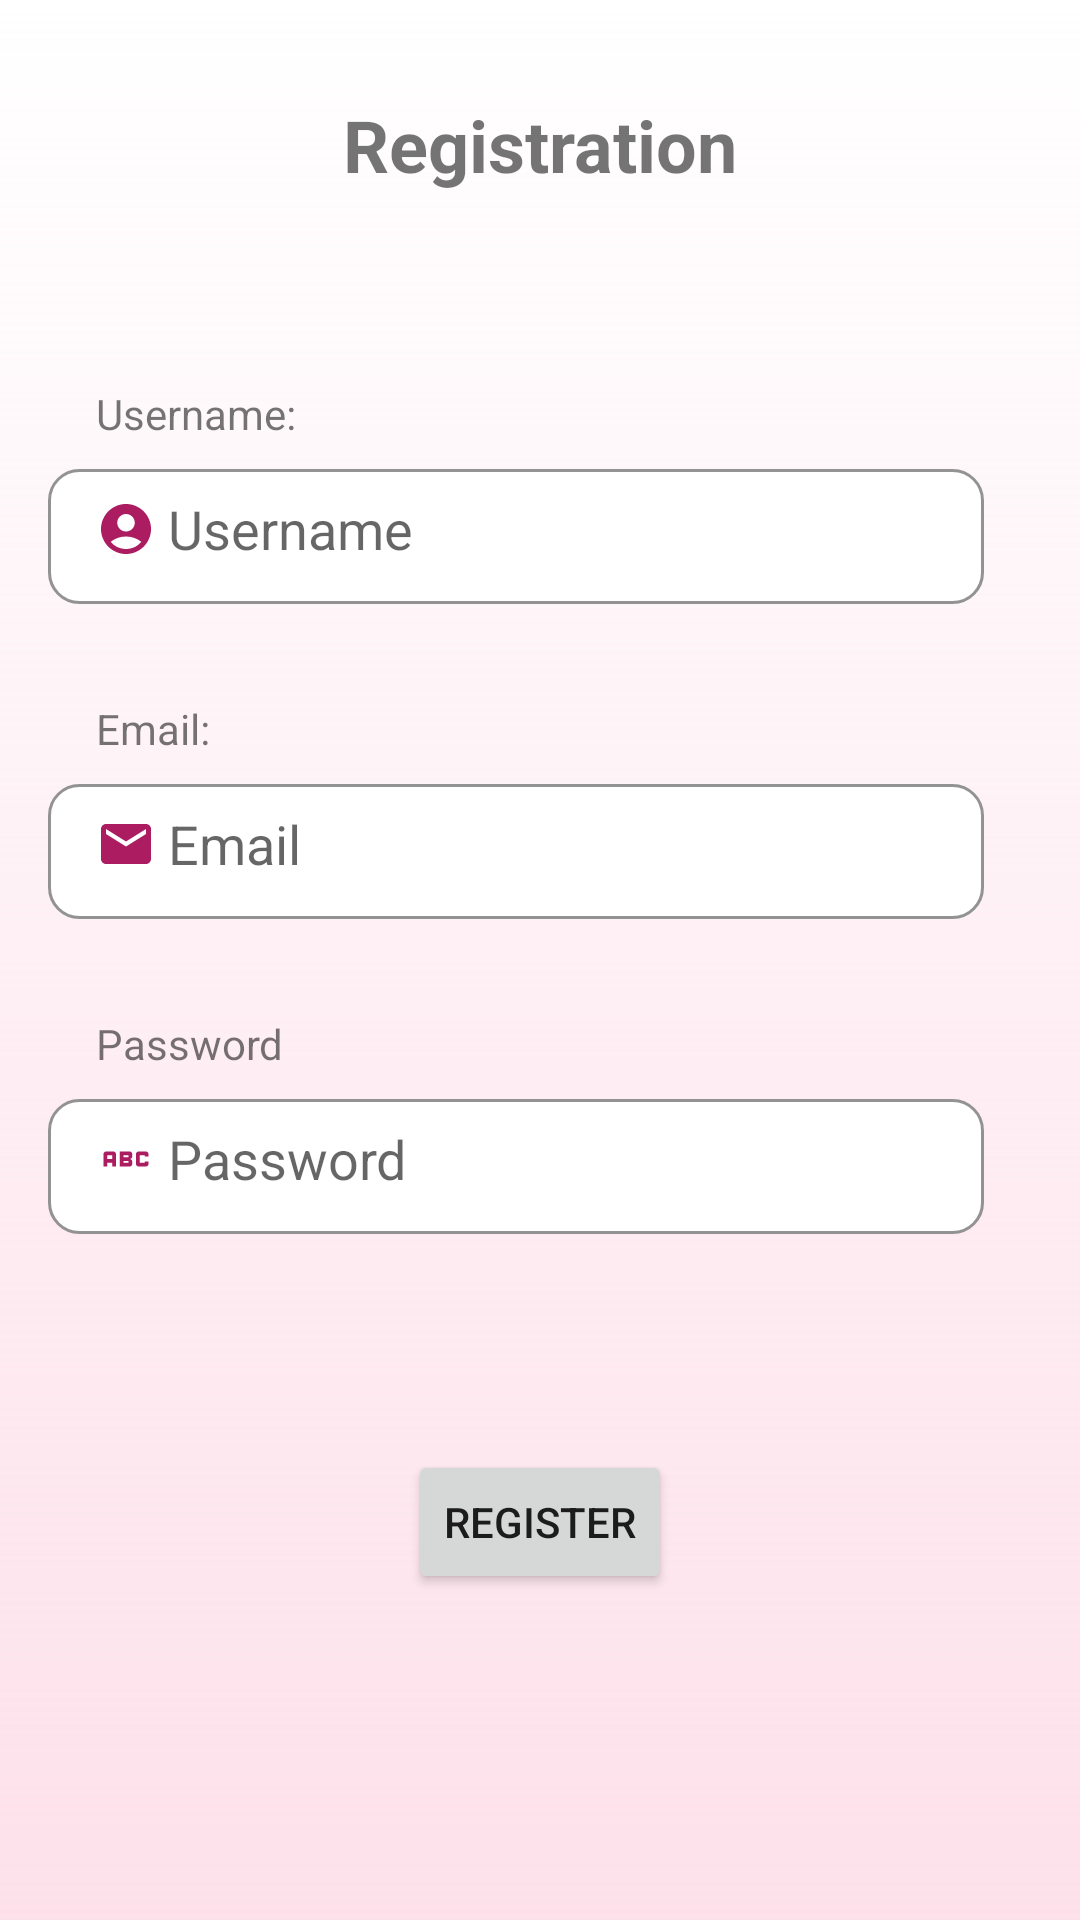

Screen size 1080x1920. Icon name, then its center in pixels as [x,y]:
account: [126,529]
